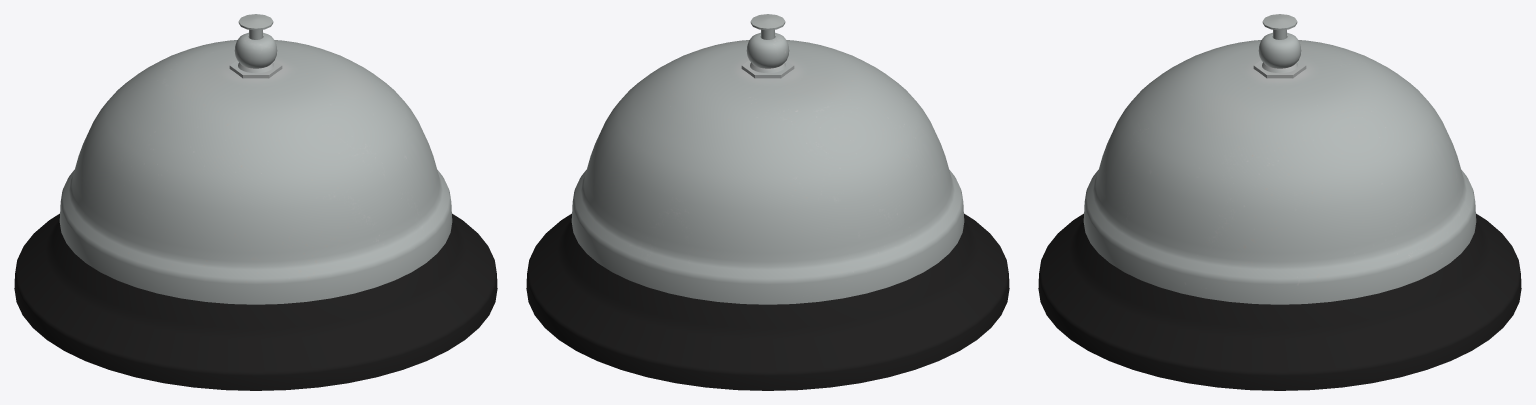
File: bell.glb
3 views of the same model, side by side, from view 1: azimuth 30°, elevation 25°; view 2: azimuth 150°, elevation 25°; view 3: azimuth 270°, elevation 25° (orthographic).
Visible parts, largest first — view 1: Button_Metal_0; view 2: Button_Metal_0; view 3: Button_Metal_0.
Part boxes in pixels (box(x1,y1,x2,y2)): Button_Metal_0: box(14, 14, 497, 390); Button_Metal_0: box(526, 14, 1009, 390); Button_Metal_0: box(1038, 14, 1521, 390).
Bounding box in the file's own units: 0.1271 × 0.0783 × 0.1271.
2 materials, 2 textured.
